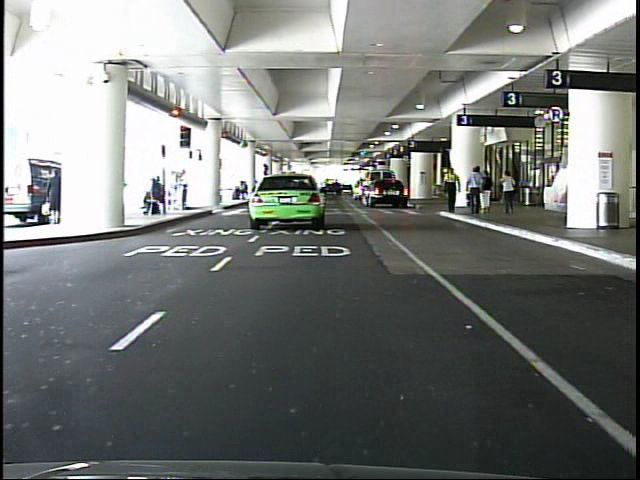person: (46, 168, 74, 226), (440, 162, 464, 218), (494, 170, 519, 217), (465, 163, 485, 217), (481, 168, 497, 217), (179, 168, 195, 214)
